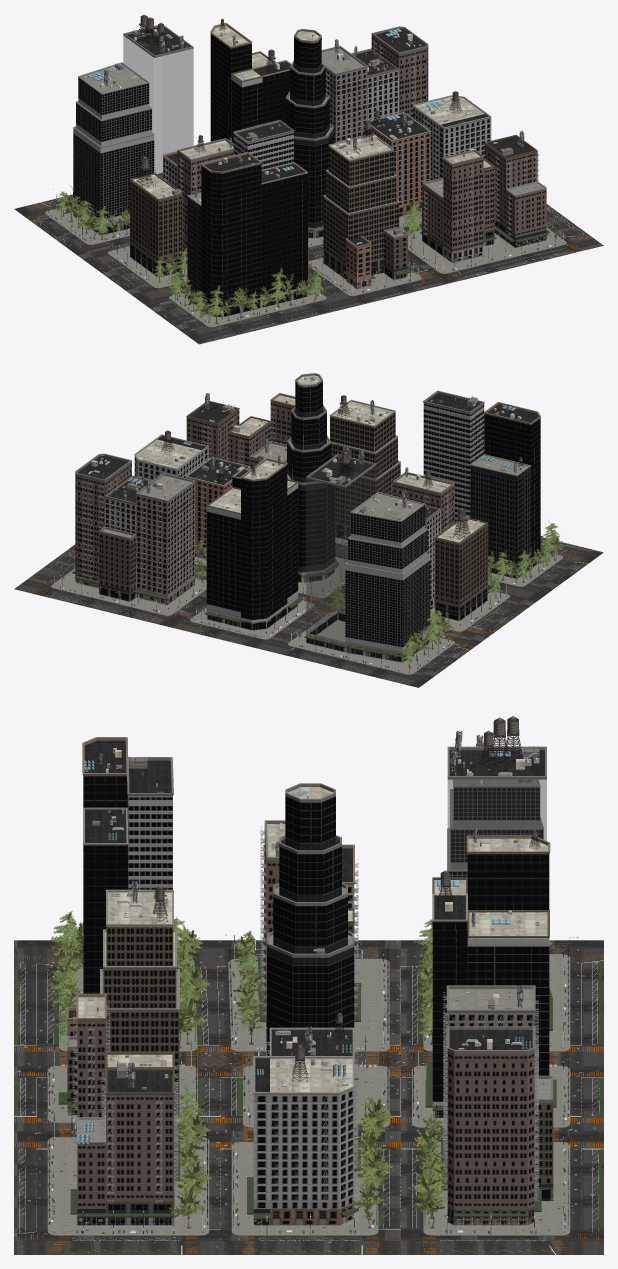
The model's file is city.glb.
The picture shows the model from 3 angles, top to bottom: view 1: azimuth 30°, elevation 25°; view 2: azimuth 150°, elevation 25°; view 3: azimuth 270°, elevation 25°; orthographic projection. The views are drawn at different scales.
Visible parts, largest first — view 1: CityGen Buildings.001, CityGen Buildings, Plane.018; view 2: CityGen Buildings.001, CityGen Buildings, Plane.018; view 3: Plane.018, CityGen Buildings, CityGen Buildings.001.
Boxes of the visible parts, x1,y1,x2,y2 form: CityGen Buildings.001: [71, 14, 333, 318]; CityGen Buildings: [129, 26, 549, 289]; Plane.018: [14, 170, 603, 344]; CityGen Buildings.001: [204, 373, 543, 662]; CityGen Buildings: [72, 393, 489, 620]; Plane.018: [14, 520, 603, 687]; Plane.018: [14, 911, 603, 1254]; CityGen Buildings: [58, 820, 553, 1229]; CityGen Buildings.001: [79, 716, 556, 1121].
Bounding box in the file's own units: 248 × 112 × 196.
Materials: 47 (39 with a texture image).
